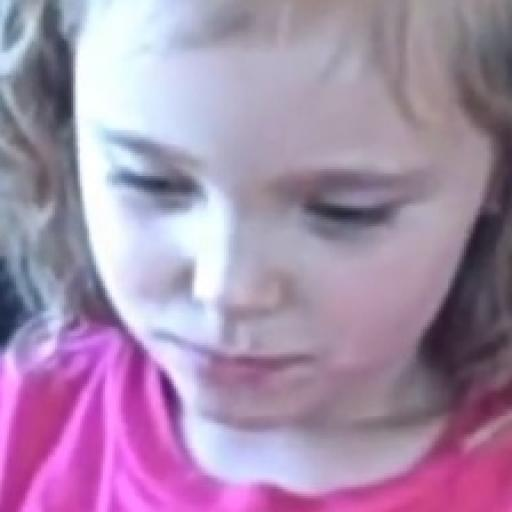Autism: (60, 17, 512, 512)
